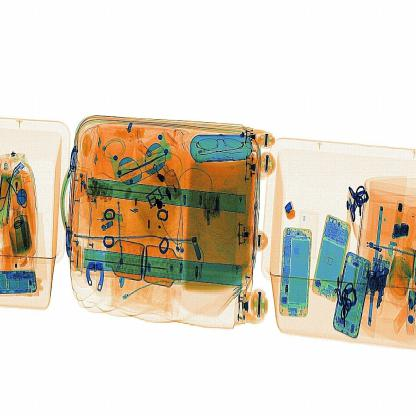wrench: (281, 196, 302, 222)
